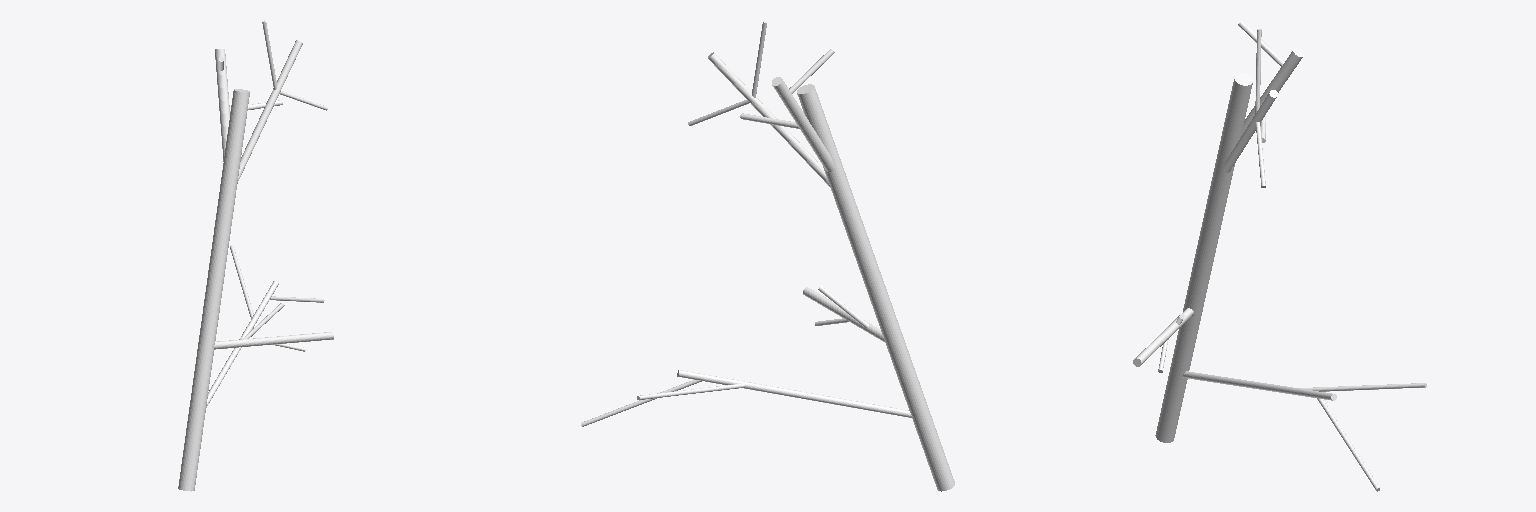
The robot description file, URDF, robot "tree_52.urdf":
<?xml version='1.0' encoding='UTF-8'?>
<robot name="tree_52.urdf">
  <link name="branch_0">
    <inertial>
      <origin xyz="0.0 0.0 0.0" rpy="0.0 -0.0 0.0"/>
      <mass value="1.0"/>
      <inertia ixx="1.0" ixy="0.0" ixz="0.0" iyy="1.0" iyz="0.0" izz="1.0"/>
    </inertial>
    <visual name="branch_0_visual">
      <geometry>
        <cylinder radius="0.16536965560736808" length="8.082831753945195"/>
      </geometry>
      <material name="branch_material"/>
      <origin xyz="1.0251114592884856 0.6743507175116712 3.8506414915534686" rpy="-2.3188154132375044e-17 0.30848328578142115 0.581861056422765"/>
    </visual>
    <collision name="branch_0_collision">
      <geometry>
        <cylinder radius="0.16536965560736808" length="8.082831753945195"/>
      </geometry>
      <origin xyz="1.0251114592884856 0.6743507175116712 3.8506414915534686" rpy="-2.3188154132375044e-17 0.30848328578142115 0.581861056422765"/>
    </collision>
  </link>
  <link name="branch_1">
    <inertial>
      <origin xyz="0.0 0.0 0.0" rpy="0.0 -0.0 0.0"/>
      <mass value="1.0"/>
      <inertia ixx="1.0" ixy="0.0" ixz="0.0" iyy="1.0" iyz="0.0" izz="1.0"/>
    </inertial>
    <visual name="branch_1_visual">
      <geometry>
        <cylinder radius="0.07748157397442328" length="2.539666369092639"/>
      </geometry>
      <material name="branch_material"/>
      <origin xyz="0.0 0.0 0.0" rpy="0.0 -0.0 0.0"/>
    </visual>
    <collision name="branch_1_collision">
      <geometry>
        <cylinder radius="0.07748157397442328" length="2.539666369092639"/>
      </geometry>
      <origin xyz="0.0 0.0 0.0" rpy="0.0 -0.0 0.0"/>
    </collision>
  </link>
  <link name="branch_2">
    <inertial>
      <origin xyz="0.0 0.0 0.0" rpy="0.0 -0.0 0.0"/>
      <mass value="1.0"/>
      <inertia ixx="1.0" ixy="0.0" ixz="0.0" iyy="1.0" iyz="0.0" izz="1.0"/>
    </inertial>
    <visual name="branch_2_visual">
      <geometry>
        <cylinder radius="0.04544069827169253" length="1.1745395905389688"/>
      </geometry>
      <material name="branch_material"/>
      <origin xyz="0.0 0.0 0.0" rpy="0.0 -0.0 0.0"/>
    </visual>
    <collision name="branch_2_collision">
      <geometry>
        <cylinder radius="0.04544069827169253" length="1.1745395905389688"/>
      </geometry>
      <origin xyz="0.0 0.0 0.0" rpy="0.0 -0.0 0.0"/>
    </collision>
  </link>
  <link name="branch_3">
    <inertial>
      <origin xyz="0.0 0.0 0.0" rpy="0.0 -0.0 0.0"/>
      <mass value="1.0"/>
      <inertia ixx="1.0" ixy="0.0" ixz="0.0" iyy="1.0" iyz="0.0" izz="1.0"/>
    </inertial>
    <visual name="branch_3_visual">
      <geometry>
        <cylinder radius="0.04" length="0.9012873038607305"/>
      </geometry>
      <material name="branch_material"/>
      <origin xyz="0.0 0.0 0.0" rpy="0.0 -0.0 0.0"/>
    </visual>
    <collision name="branch_3_collision">
      <geometry>
        <cylinder radius="0.04" length="0.9012873038607305"/>
      </geometry>
      <origin xyz="0.0 0.0 0.0" rpy="0.0 -0.0 0.0"/>
    </collision>
  </link>
  <link name="branch_4">
    <inertial>
      <origin xyz="0.0 0.0 0.0" rpy="0.0 -0.0 0.0"/>
      <mass value="1.0"/>
      <inertia ixx="1.0" ixy="0.0" ixz="0.0" iyy="1.0" iyz="0.0" izz="1.0"/>
    </inertial>
    <visual name="branch_4_visual">
      <geometry>
        <cylinder radius="0.07600364474314386" length="3.431599465895366"/>
      </geometry>
      <material name="branch_material"/>
      <origin xyz="0.0 0.0 0.0" rpy="0.0 -0.0 0.0"/>
    </visual>
    <collision name="branch_4_collision">
      <geometry>
        <cylinder radius="0.07600364474314386" length="3.431599465895366"/>
      </geometry>
      <origin xyz="0.0 0.0 0.0" rpy="0.0 -0.0 0.0"/>
    </collision>
  </link>
  <link name="branch_5">
    <inertial>
      <origin xyz="0.0 0.0 0.0" rpy="0.0 -0.0 0.0"/>
      <mass value="1.0"/>
      <inertia ixx="1.0" ixy="0.0" ixz="0.0" iyy="1.0" iyz="0.0" izz="1.0"/>
    </inertial>
    <visual name="branch_5_visual">
      <geometry>
        <cylinder radius="0.04" length="1.4115679060051631"/>
      </geometry>
      <material name="branch_material"/>
      <origin xyz="0.0 0.0 0.0" rpy="0.0 -0.0 0.0"/>
    </visual>
    <collision name="branch_5_collision">
      <geometry>
        <cylinder radius="0.04" length="1.4115679060051631"/>
      </geometry>
      <origin xyz="0.0 0.0 0.0" rpy="0.0 -0.0 0.0"/>
    </collision>
  </link>
  <link name="branch_6">
    <inertial>
      <origin xyz="0.0 0.0 0.0" rpy="0.0 -0.0 0.0"/>
      <mass value="1.0"/>
      <inertia ixx="1.0" ixy="0.0" ixz="0.0" iyy="1.0" iyz="0.0" izz="1.0"/>
    </inertial>
    <visual name="branch_6_visual">
      <geometry>
        <cylinder radius="0.04" length="1.5994155063564395"/>
      </geometry>
      <material name="branch_material"/>
      <origin xyz="0.0 0.0 0.0" rpy="0.0 -0.0 0.0"/>
    </visual>
    <collision name="branch_6_collision">
      <geometry>
        <cylinder radius="0.04" length="1.5994155063564395"/>
      </geometry>
      <origin xyz="0.0 0.0 0.0" rpy="0.0 -0.0 0.0"/>
    </collision>
  </link>
  <link name="branch_7">
    <inertial>
      <origin xyz="0.0 0.0 0.0" rpy="0.0 -0.0 0.0"/>
      <mass value="1.0"/>
      <inertia ixx="1.0" ixy="0.0" ixz="0.0" iyy="1.0" iyz="0.0" izz="1.0"/>
    </inertial>
    <visual name="branch_7_visual">
      <geometry>
        <cylinder radius="0.10367036362102632" length="2.55435357253113"/>
      </geometry>
      <material name="branch_material"/>
      <origin xyz="0.0 0.0 0.0" rpy="0.0 -0.0 0.0"/>
    </visual>
    <collision name="branch_7_collision">
      <geometry>
        <cylinder radius="0.10367036362102632" length="2.55435357253113"/>
      </geometry>
      <origin xyz="0.0 0.0 0.0" rpy="0.0 -0.0 0.0"/>
    </collision>
  </link>
  <link name="branch_8">
    <inertial>
      <origin xyz="0.0 0.0 0.0" rpy="0.0 -0.0 0.0"/>
      <mass value="1.0"/>
      <inertia ixx="1.0" ixy="0.0" ixz="0.0" iyy="1.0" iyz="0.0" izz="1.0"/>
    </inertial>
    <visual name="branch_8_visual">
      <geometry>
        <cylinder radius="0.052538013663814845" length="1.1451659573884354"/>
      </geometry>
      <material name="branch_material"/>
      <origin xyz="0.0 0.0 0.0" rpy="0.0 -0.0 0.0"/>
    </visual>
    <collision name="branch_8_collision">
      <geometry>
        <cylinder radius="0.052538013663814845" length="1.1451659573884354"/>
      </geometry>
      <origin xyz="0.0 0.0 0.0" rpy="0.0 -0.0 0.0"/>
    </collision>
  </link>
  <link name="branch_9">
    <inertial>
      <origin xyz="0.0 0.0 0.0" rpy="0.0 -0.0 0.0"/>
      <mass value="1.0"/>
      <inertia ixx="1.0" ixy="0.0" ixz="0.0" iyy="1.0" iyz="0.0" izz="1.0"/>
    </inertial>
    <visual name="branch_9_visual">
      <geometry>
        <cylinder radius="0.05298061907170868" length="1.2997557868947434"/>
      </geometry>
      <material name="branch_material"/>
      <origin xyz="0.0 0.0 0.0" rpy="0.0 -0.0 0.0"/>
    </visual>
    <collision name="branch_9_collision">
      <geometry>
        <cylinder radius="0.05298061907170868" length="1.2997557868947434"/>
      </geometry>
      <origin xyz="0.0 0.0 0.0" rpy="0.0 -0.0 0.0"/>
    </collision>
  </link>
  <link name="branch_10">
    <inertial>
      <origin xyz="0.0 0.0 0.0" rpy="0.0 -0.0 0.0"/>
      <mass value="1.0"/>
      <inertia ixx="1.0" ixy="0.0" ixz="0.0" iyy="1.0" iyz="0.0" izz="1.0"/>
    </inertial>
    <visual name="branch_10_visual">
      <geometry>
        <cylinder radius="0.06113129347521956" length="4.422875696226471"/>
      </geometry>
      <material name="branch_material"/>
      <origin xyz="0.0 0.0 0.0" rpy="0.0 -0.0 0.0"/>
    </visual>
    <collision name="branch_10_collision">
      <geometry>
        <cylinder radius="0.06113129347521956" length="4.422875696226471"/>
      </geometry>
      <origin xyz="0.0 0.0 0.0" rpy="0.0 -0.0 0.0"/>
    </collision>
  </link>
  <link name="branch_11">
    <inertial>
      <origin xyz="0.0 0.0 0.0" rpy="0.0 -0.0 0.0"/>
      <mass value="1.0"/>
      <inertia ixx="1.0" ixy="0.0" ixz="0.0" iyy="1.0" iyz="0.0" izz="1.0"/>
    </inertial>
    <visual name="branch_11_visual">
      <geometry>
        <cylinder radius="0.04" length="2.3349203539981254"/>
      </geometry>
      <material name="branch_material"/>
      <origin xyz="0.0 0.0 0.0" rpy="0.0 -0.0 0.0"/>
    </visual>
    <collision name="branch_11_collision">
      <geometry>
        <cylinder radius="0.04" length="2.3349203539981254"/>
      </geometry>
      <origin xyz="0.0 0.0 0.0" rpy="0.0 -0.0 0.0"/>
    </collision>
  </link>
  <link name="branch_12">
    <inertial>
      <origin xyz="0.0 0.0 0.0" rpy="0.0 -0.0 0.0"/>
      <mass value="1.0"/>
      <inertia ixx="1.0" ixy="0.0" ixz="0.0" iyy="1.0" iyz="0.0" izz="1.0"/>
    </inertial>
    <visual name="branch_12_visual">
      <geometry>
        <cylinder radius="0.04" length="2.506482641595105"/>
      </geometry>
      <material name="branch_material"/>
      <origin xyz="0.0 0.0 0.0" rpy="0.0 -0.0 0.0"/>
    </visual>
    <collision name="branch_12_collision">
      <geometry>
        <cylinder radius="0.04" length="2.506482641595105"/>
      </geometry>
      <origin xyz="0.0 0.0 0.0" rpy="0.0 -0.0 0.0"/>
    </collision>
  </link>
  <joint name="joint_0_1" type="fixed">
    <parent link="branch_0"/>
    <child link="branch_1"/>
    <axis xyz="1. 0. 0."/>
    <origin xyz="1.9121876290260422 0.005828600773413156 2.803261918480232" rpy="-1.4592668583224817 1.3110755002282257 -1.8497117835109622"/>
  </joint>
  <joint name="joint_0_4" type="fixed">
    <parent link="branch_0"/>
    <child link="branch_4"/>
    <axis xyz="1. 0. 0."/>
    <origin xyz="2.583801143721973 1.4255269496293155 6.920942511693931" rpy="-0.12731285074632173 0.7349285474963738 0.19476985348208245"/>
  </joint>
  <joint name="joint_0_7" type="fixed">
    <parent link="branch_0"/>
    <child link="branch_7"/>
    <axis xyz="1. 0. 0."/>
    <origin xyz="1.8457727881375454 1.6702879062766687 7.124689896217107" rpy="0.309996438545066 0.4527184889708948 1.829998846103413"/>
  </joint>
  <joint name="joint_0_10" type="fixed">
    <parent link="branch_0"/>
    <child link="branch_10"/>
    <axis xyz="1. 0. 0."/>
    <origin xyz="2.040805015544852 1.5657483066299633 1.9201903894573074" rpy="0.11927225395661326 1.313578718380497 0.7924242381151504"/>
  </joint>
  <joint name="joint_1_2" type="fixed">
    <parent link="branch_0"/>
    <child link="branch_2"/>
    <axis xyz="1. 0. 0."/>
    <origin xyz="1.875797115003119 0.25878651562904376 3.085446732615514" rpy="0.8760706257782146 -0.6517930282118856 2.103560462228759"/>
  </joint>
  <joint name="joint_1_3" type="fixed">
    <parent link="branch_0"/>
    <child link="branch_3"/>
    <axis xyz="1. 0. 0."/>
    <origin xyz="2.2478632244080217 -0.020237953374437033 2.6353525398252184" rpy="2.203442194277959 0.9008356286684042 1.9526153944949145"/>
  </joint>
  <joint name="joint_4_5" type="fixed">
    <parent link="branch_0"/>
    <child link="branch_5"/>
    <axis xyz="1. 0. 0."/>
    <origin xyz="3.582441717052176 1.6357583237124582 7.023443293820586" rpy="-2.8093169132836575 1.0066664880128668 -2.668161009345979"/>
  </joint>
  <joint name="joint_4_6" type="fixed">
    <parent link="branch_0"/>
    <child link="branch_6"/>
    <axis xyz="1. 0. 0."/>
    <origin xyz="2.8397930558795026 1.597207950248776 8.162172587063662" rpy="0.06993913031455104 0.14903565629108104 -2.8231460502495427"/>
  </joint>
  <joint name="joint_7_8" type="fixed">
    <parent link="branch_0"/>
    <child link="branch_8"/>
    <axis xyz="1. 0. 0."/>
    <origin xyz="1.7764785682132012 1.687857555626617 8.207720468988406" rpy="0.11196042941219131 0.959580560998034 -1.9586332980528027"/>
  </joint>
  <joint name="joint_7_9" type="fixed">
    <parent link="branch_0"/>
    <child link="branch_9"/>
    <axis xyz="1. 0. 0."/>
    <origin xyz="2.500344851294595 1.6782857081488554 7.10496198019437" rpy="-1.7288451894966481 1.0572031900614793 -1.7228397738684151"/>
  </joint>
  <joint name="joint_10_11" type="fixed">
    <parent link="branch_0"/>
    <child link="branch_11"/>
    <axis xyz="1. 0. 0."/>
    <origin xyz="4.289839860342076 3.126097671245871 1.8969052122988892" rpy="-2.6206462497658896 1.0993162294694965 -2.0604967756112895"/>
  </joint>
  <joint name="joint_10_12" type="fixed">
    <parent link="branch_0"/>
    <child link="branch_12"/>
    <axis xyz="1. 0. 0."/>
    <origin xyz="3.1990004833728896 3.3072994942026406 2.4134591059376866" rpy="1.369938098324072 0.1633451767879683 2.761927116441836"/>
  </joint>
  <material name="branch_material">
    <color rgba="1. 1. 1. 1."/>
  </material>
</robot>

--- What the picture shows (computed from the rendered views, not written in the file) ---
3 views of the same robot in one strip: view 1: azimuth 30°, elevation 25°; view 2: azimuth 150°, elevation 25°; view 3: azimuth 270°, elevation 25° (orthographic).
Model tree_52.urdf with 13 links and 12 joints (12 fixed), rooted at branch_0, posed every joint at zero.
Links seen in each view (by area): view 1: branch_0, branch_4, branch_1, branch_7, branch_10; view 2: branch_0, branch_10, branch_4, branch_7, branch_1; view 3: branch_0, branch_10, branch_4, branch_7, branch_1, branch_12.
Boxes of the visible links, x1=… form: branch_0: x1=178, y1=89, x2=249, y2=491; branch_4: x1=237, y1=40, x2=302, y2=183; branch_1: x1=214, y1=332, x2=333, y2=349; branch_7: x1=215, y1=49, x2=229, y2=161; branch_10: x1=206, y1=281, x2=278, y2=407; branch_0: x1=797, y1=84, x2=954, y2=491; branch_10: x1=677, y1=370, x2=911, y2=417; branch_4: x1=708, y1=52, x2=829, y2=186; branch_7: x1=772, y1=77, x2=833, y2=171; branch_1: x1=803, y1=287, x2=884, y2=341; branch_0: x1=1155, y1=73, x2=1252, y2=442; branch_10: x1=1182, y1=371, x2=1336, y2=400; branch_4: x1=1223, y1=90, x2=1277, y2=172; branch_7: x1=1240, y1=49, x2=1303, y2=137; branch_1: x1=1133, y1=308, x2=1193, y2=366; branch_12: x1=1300, y1=383, x2=1426, y2=391.
Bounding box of the posed robot: 5.41 × 5.02 × 9.01 m (x, y, z).
Geometry: primitives only (box / cylinder / sphere), no mesh files.